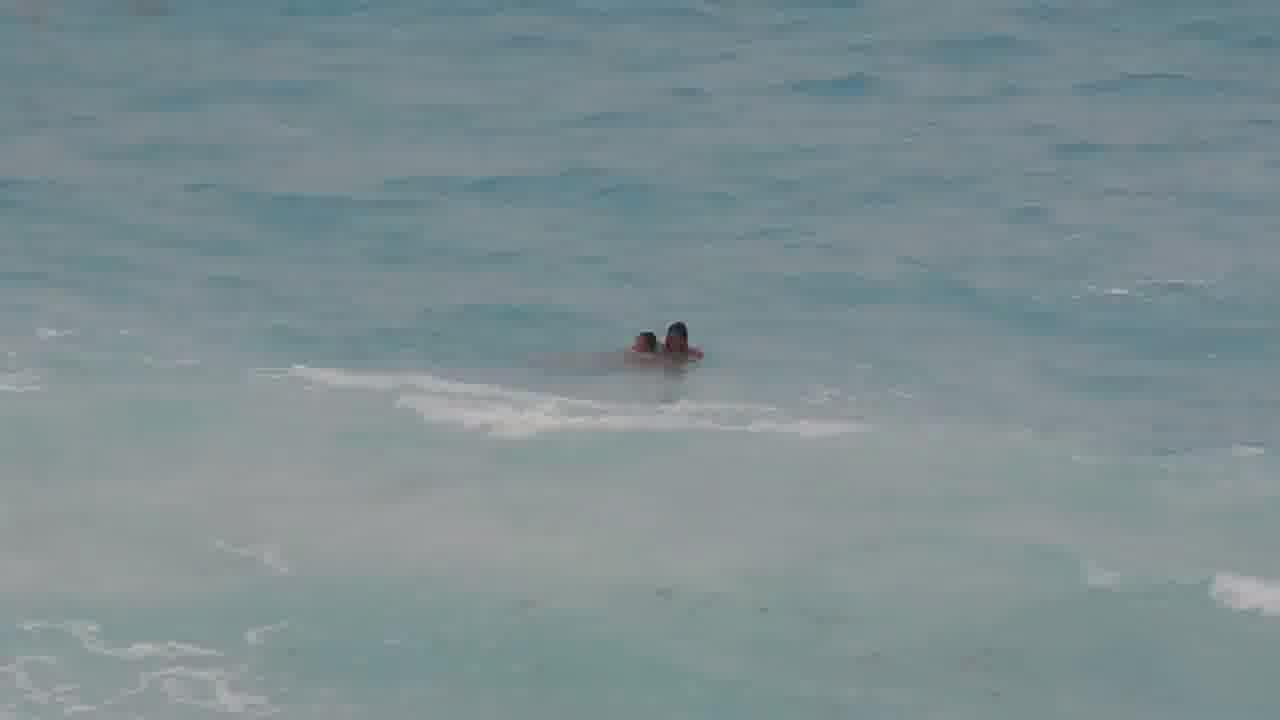human: (660, 314, 698, 362), (627, 324, 657, 359)
